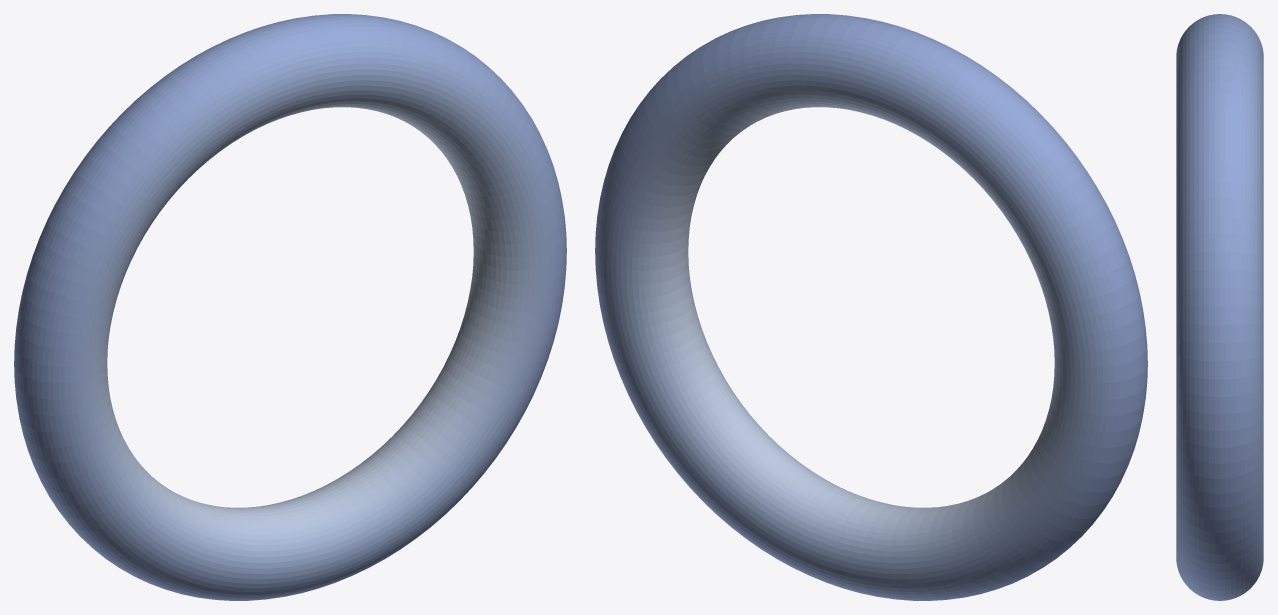
The picture shows the model from 3 angles, left to right: view 1: azimuth 30°, elevation 25°; view 2: azimuth 150°, elevation 25°; view 3: azimuth 270°, elevation 25°; orthographic projection. The views are drawn at different scales.
Visible parts, largest first — view 1: world; view 2: world; view 3: world.
Boxes of the visible parts, box(x1,y1,x2,y2) form: world: box(14, 14, 566, 600); world: box(595, 14, 1147, 600); world: box(1176, 14, 1263, 600).
Bounding box in the file's own units: 25.87 × 25.87 × 3.86.
